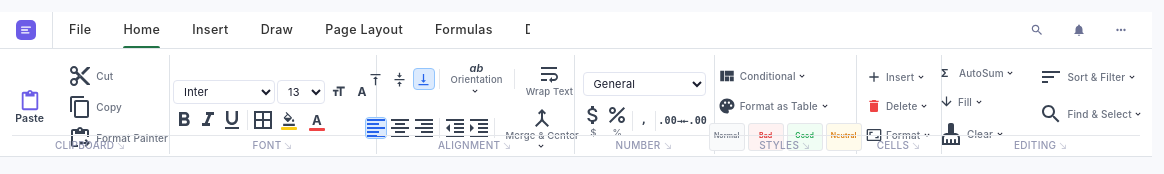
Test case: Cells Group Dropdowns › Insert dropdown opens and shows menu items
The image size is (1164, 174).
Click the button "Insert" at [896, 76], box [857, 64, 935, 88]
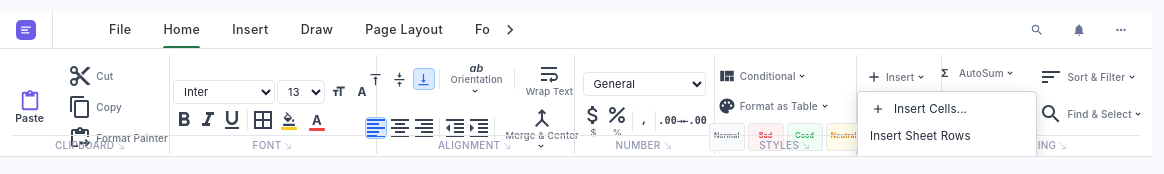
Expected: the text "Insert Sheet Rows" is shown, [870, 128, 971, 145]
